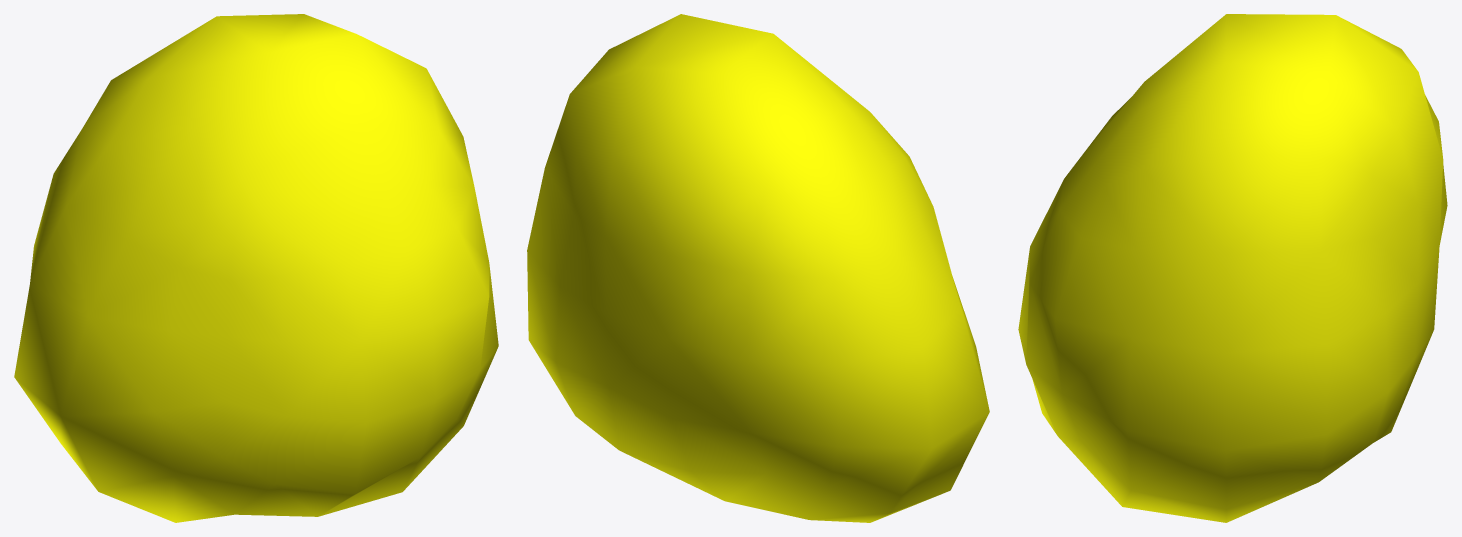
File: Props_Rocks_Rock_1_Rock1_Mid.glb
The picture shows the model from 3 angles, left to right: view 1: azimuth 30°, elevation 25°; view 2: azimuth 150°, elevation 25°; view 3: azimuth 270°, elevation 25°; orthographic projection. The views are drawn at different scales.
Visible parts, largest first — view 1: Rock1.High.005; view 2: Rock1.High.005; view 3: Rock1.High.005.
Part boxes in pixels (box(x1,y1,x2,y2)): Rock1.High.005: box(14, 14, 498, 522); Rock1.High.005: box(527, 14, 989, 522); Rock1.High.005: box(1018, 14, 1447, 522).
Size of the model in its own units: 1.47 by 1.54 by 1.24.
1 material, 1 textured.
